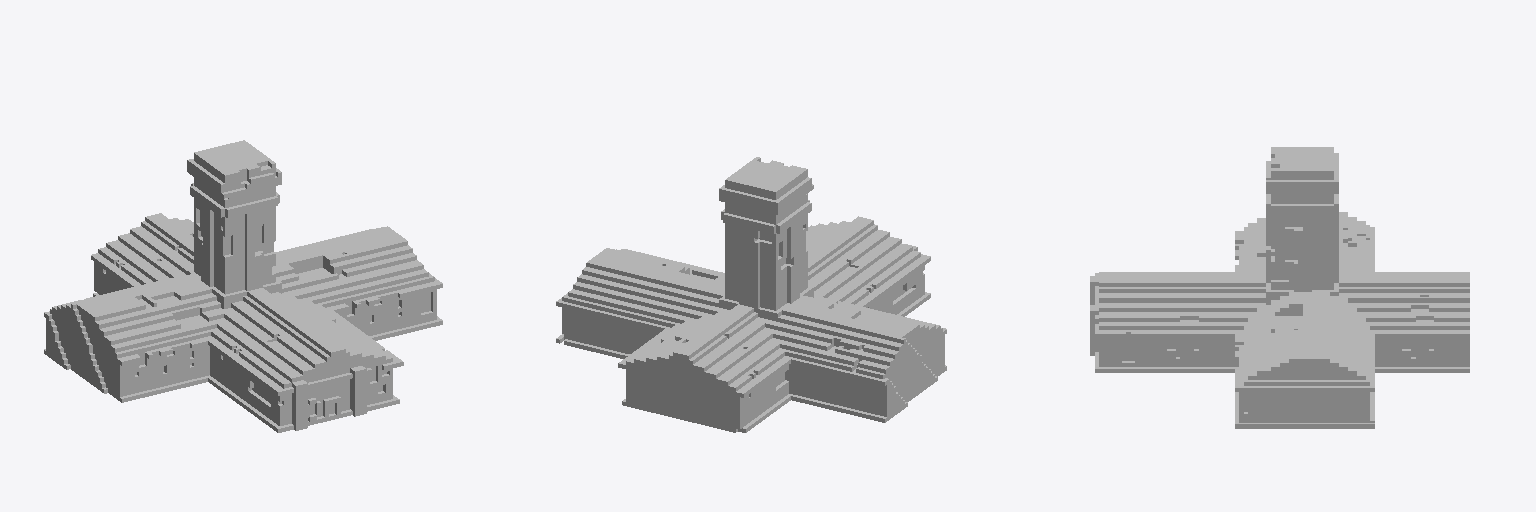
File: T3 Church.obj
3 renders of one model, left to right at view 1: azimuth 30°, elevation 25°; view 2: azimuth 150°, elevation 25°; view 3: azimuth 270°, elevation 25°, orthographic.
Parts seen in each view (by area): view 1: object 1; view 2: object 1; view 3: object 1.
Part boxes in pixels (x1,y1,x2,y2): object 1: (44,140,442,432); object 1: (556,157,946,432); object 1: (1090,147,1469,428).
Bounding box in the file's own units: 8.4 × 4.5 × 8.4.